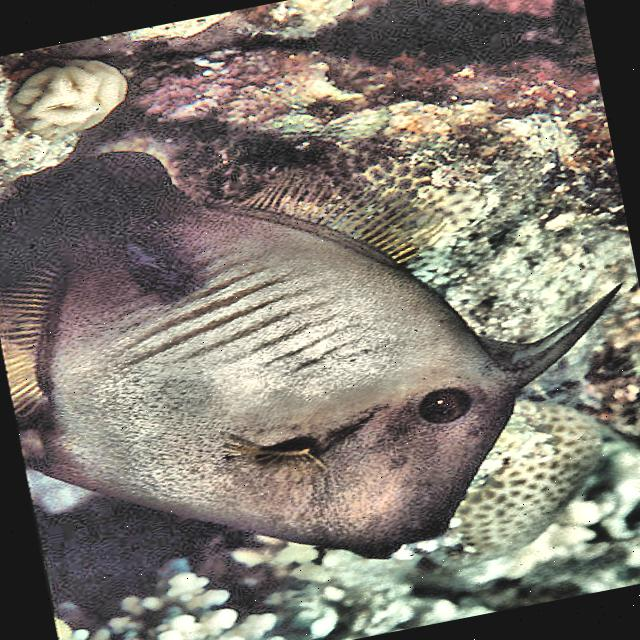fish: (0, 58, 640, 627)
